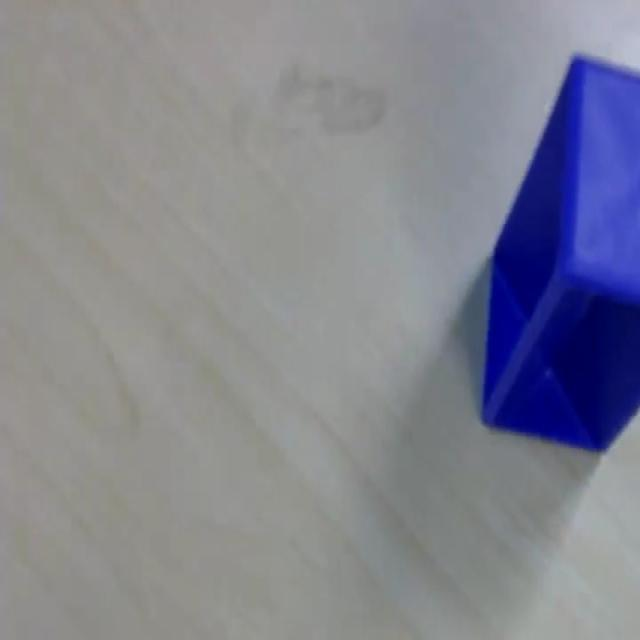blue_block: (479, 48, 638, 452)
